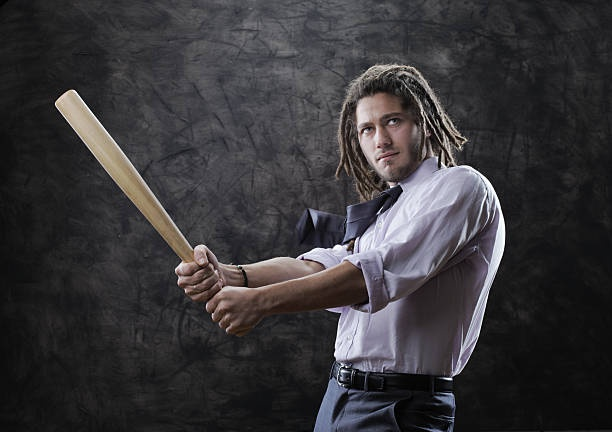bita: (52, 91, 194, 272)
